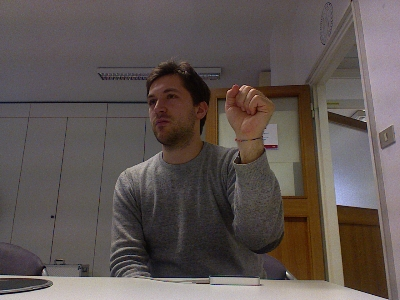石头: (223, 82, 275, 139)
